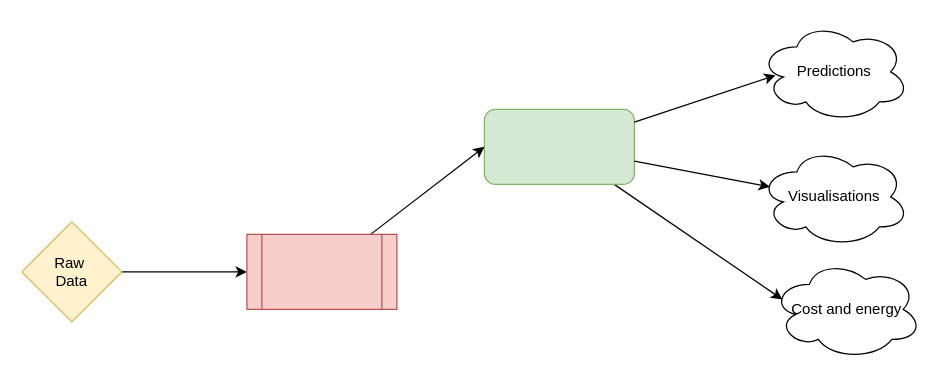
Image size: 944x381. Some labels were removed from this diagram. The box of each missing label's shape, as (x1, y1, x2, y2) in pixels:
First principles cleaning: (246, 233, 397, 309)
MVP Dashboard: (483, 108, 634, 184)
